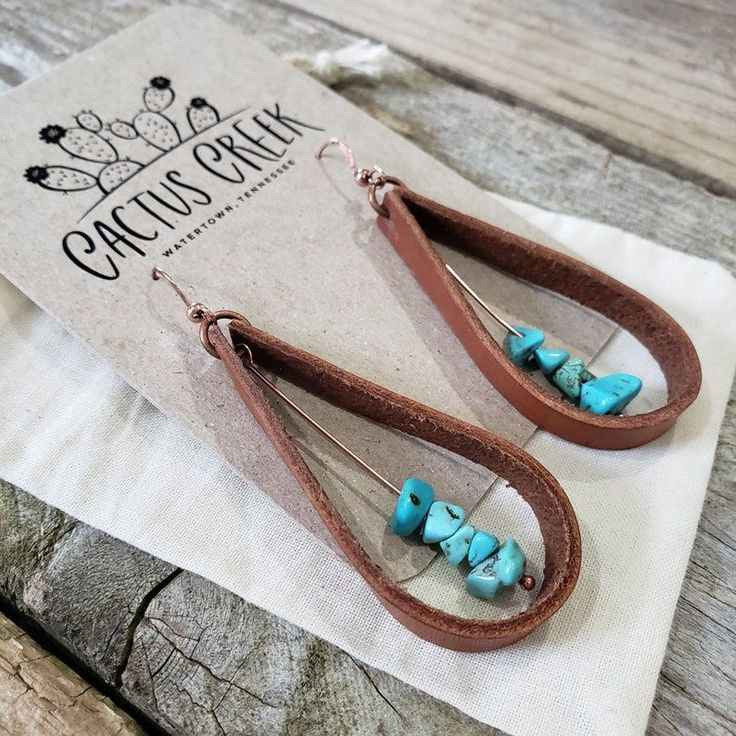cuero: (204, 184, 702, 654)
